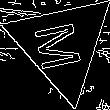M_E: (33, 16, 90, 73)
